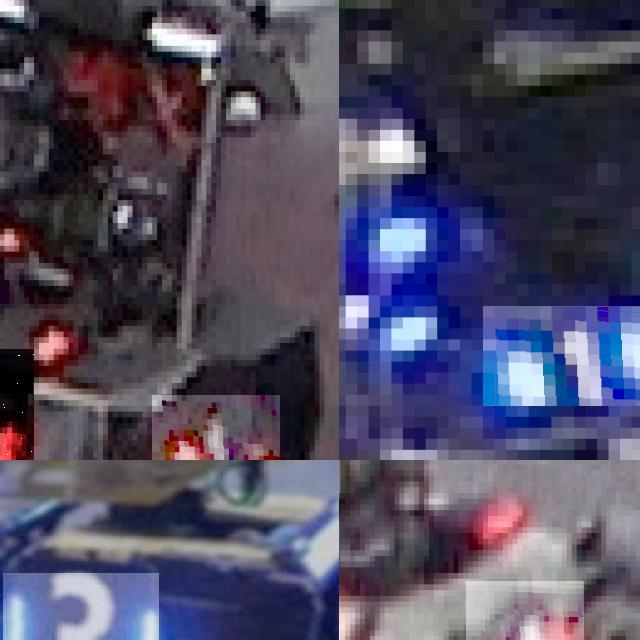B1: (482, 306, 640, 405)
B3: (3, 573, 159, 640)
R1: (152, 394, 280, 460)
R4: (466, 581, 584, 640)
